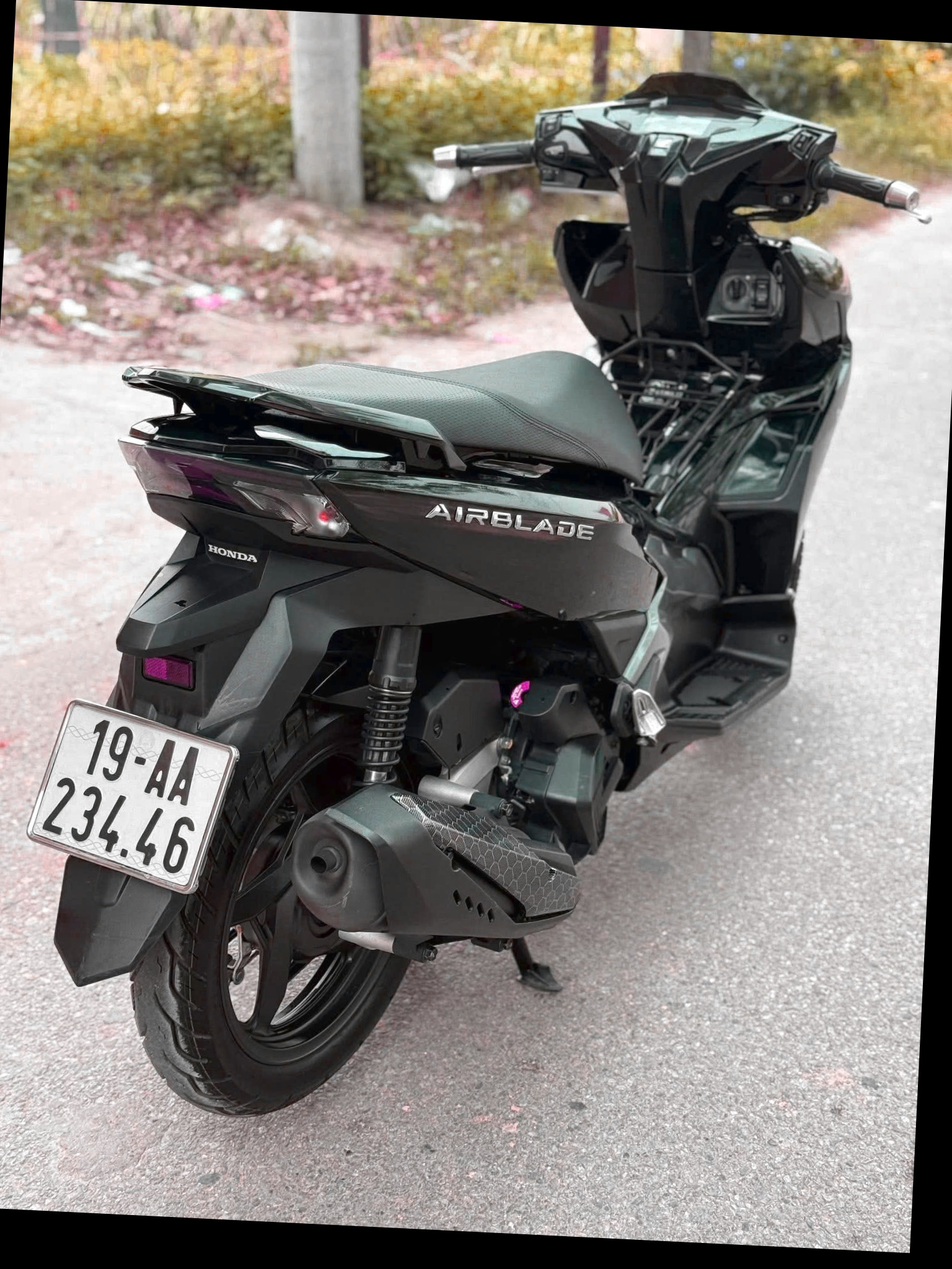Bien-so: (85, 736, 290, 962)
